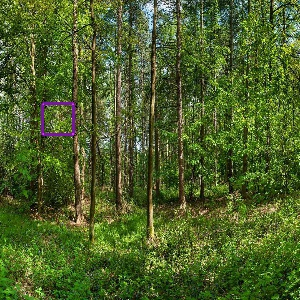square: (38, 100, 77, 136)
